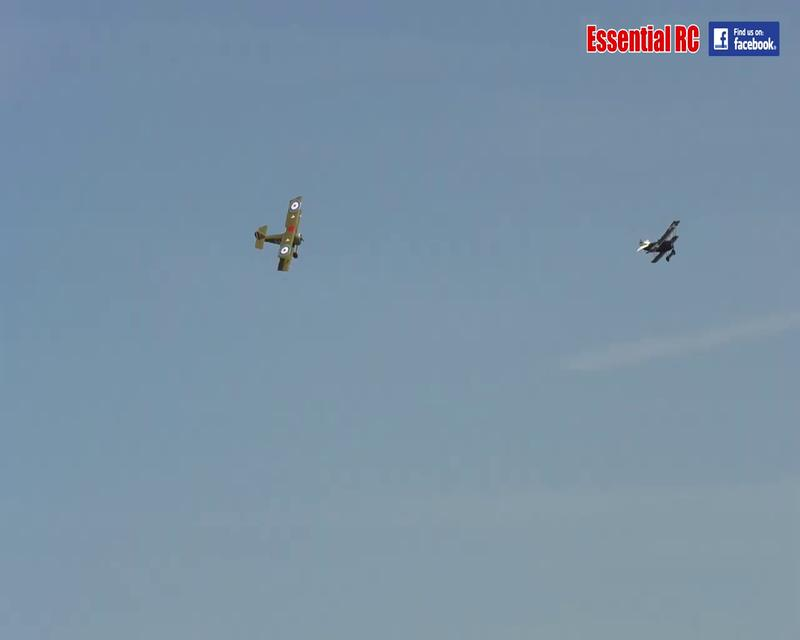UAV: (253, 194, 304, 272), (634, 220, 686, 264)
